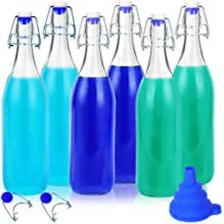bottle: (169, 0, 220, 192), (67, 8, 118, 199), (0, 8, 51, 197), (131, 10, 181, 201), (33, 0, 81, 191), (106, 0, 148, 188)
